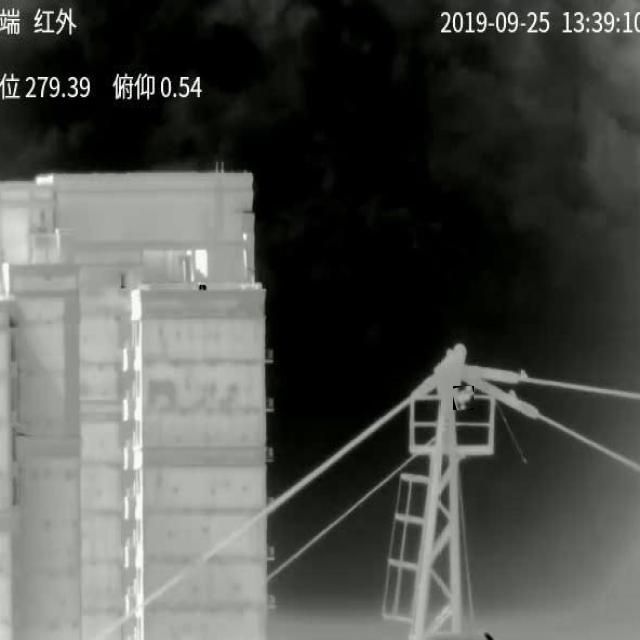drone: (453, 386, 472, 410)
